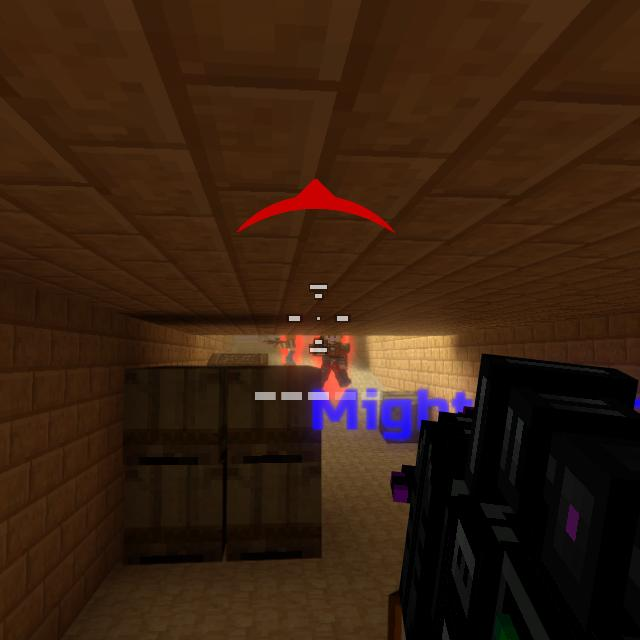Enemy: (310, 335, 350, 386), (280, 337, 298, 366)
